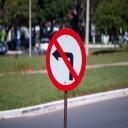NoVirarEsquerda: (44, 26, 88, 94)
